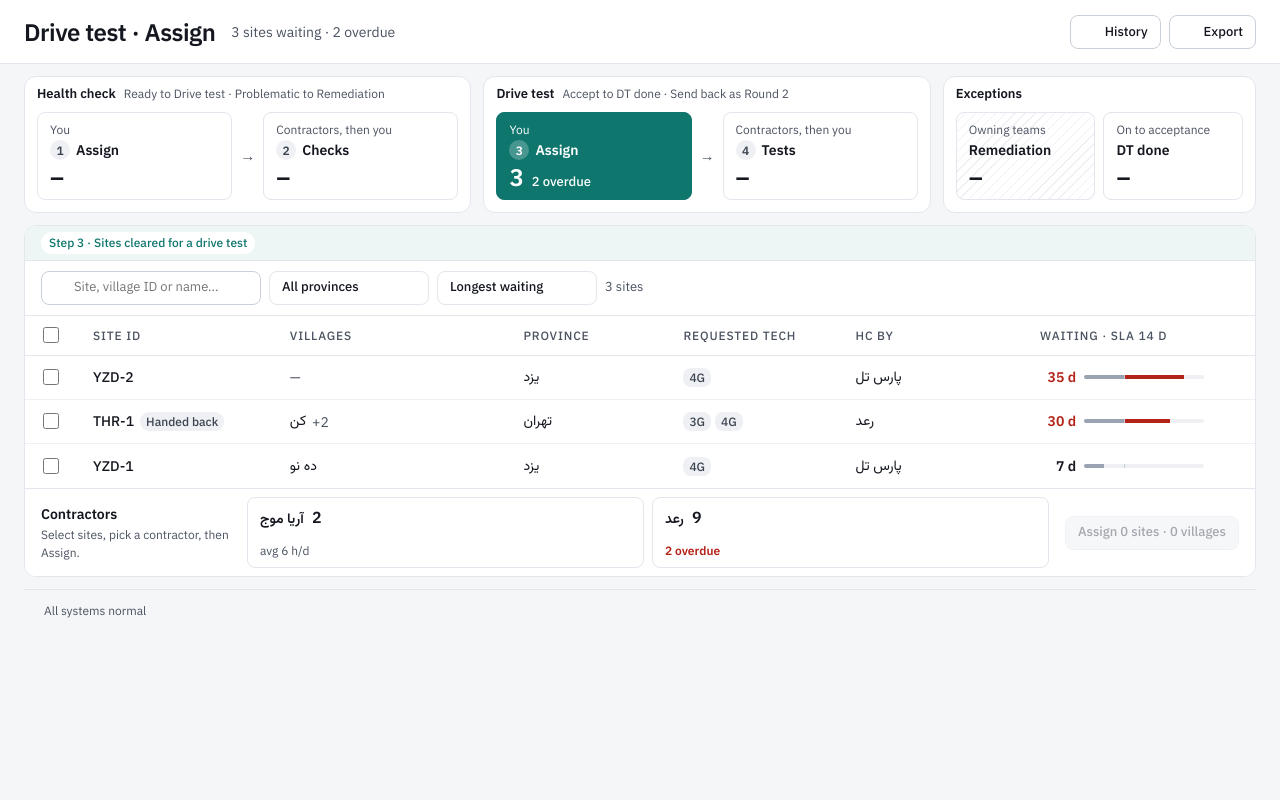
Scenario: assigning › assigns the selected sites in one click, keeps the confirmation, and undoes it
Expected: the button "Assign 0 sites · 0 villages" is disabled, [1065, 516, 1239, 550]
Click the checkbox named "Select YZD-1" at [51, 466], box [43, 458, 59, 474]
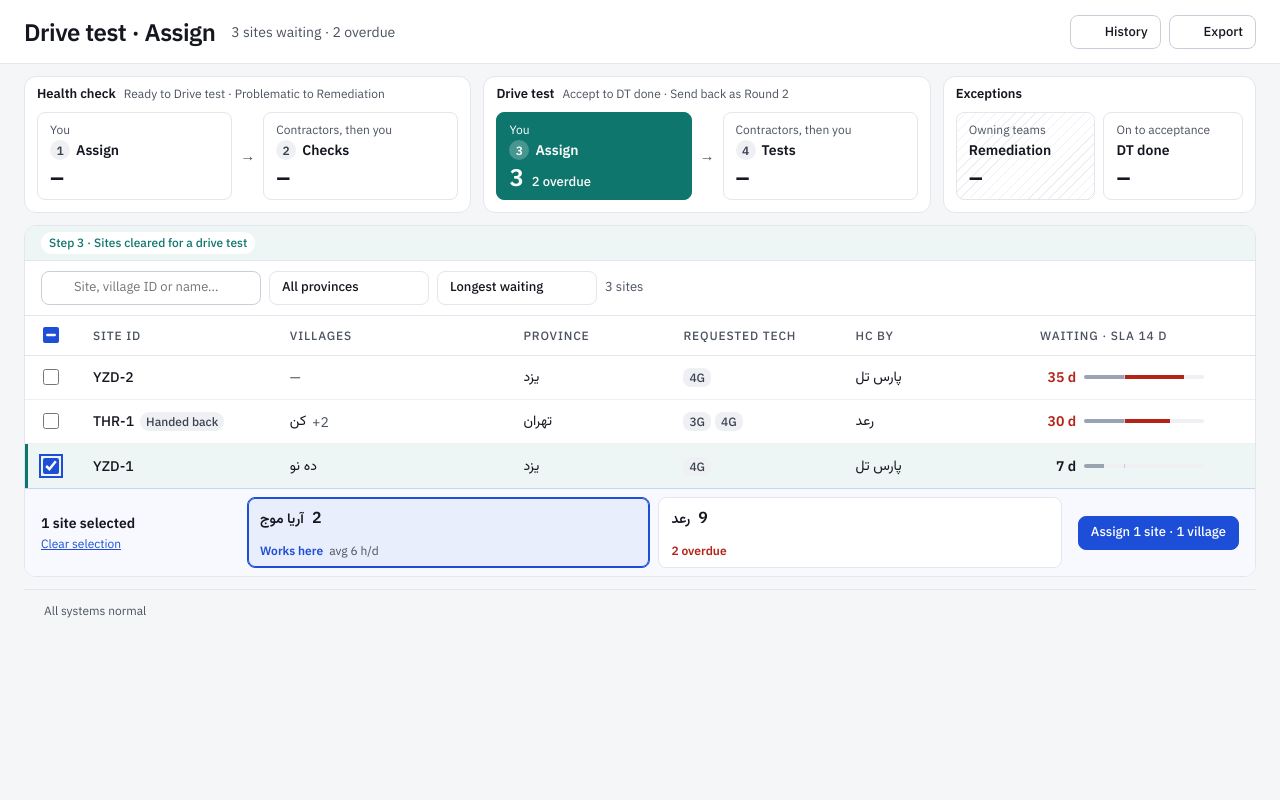
Expected: the radio button labelled "آریا موج 2 Works here avg 6 h/d" is checked
Click the radio button labelled "آریا موج 2 Works here avg 6 h/d" at [282, 520], box [247, 497, 650, 568]
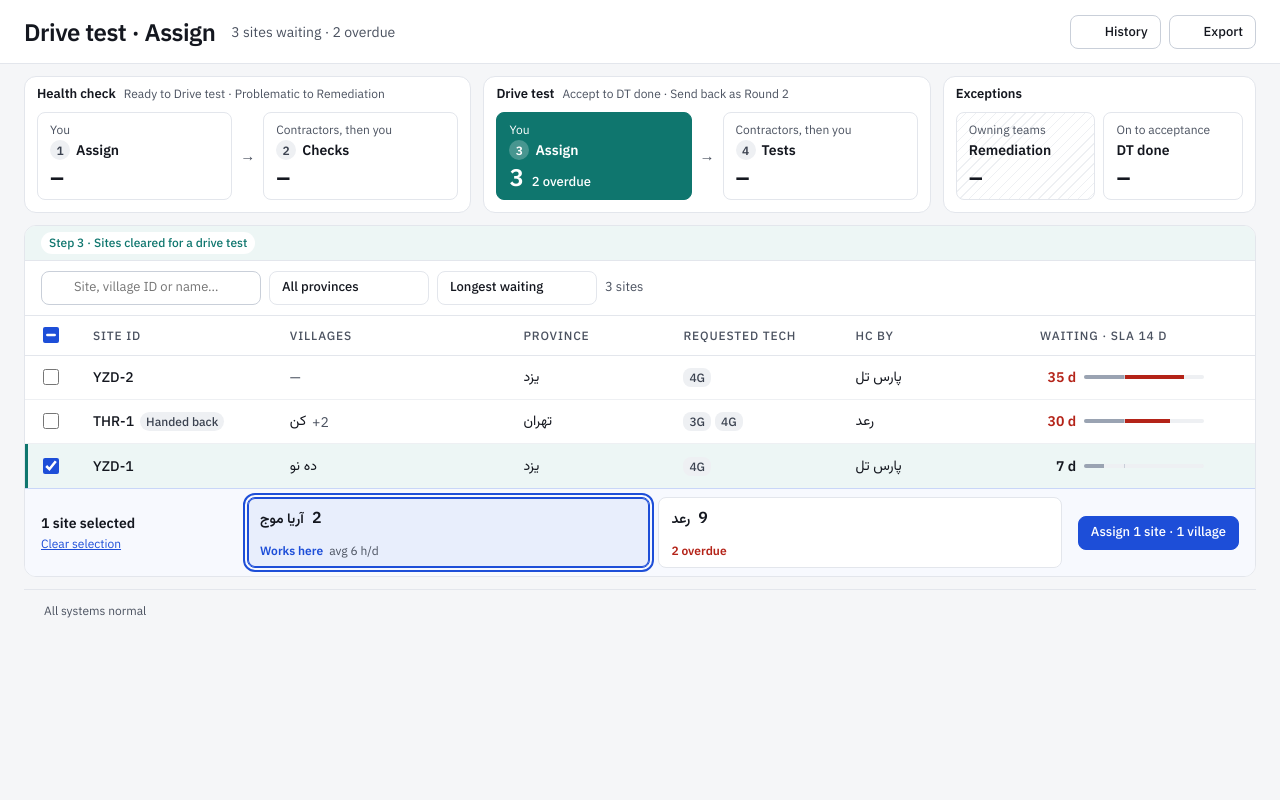
Click the button "Assign 1 site · 1 village" at [1158, 533], box [1078, 516, 1239, 550]
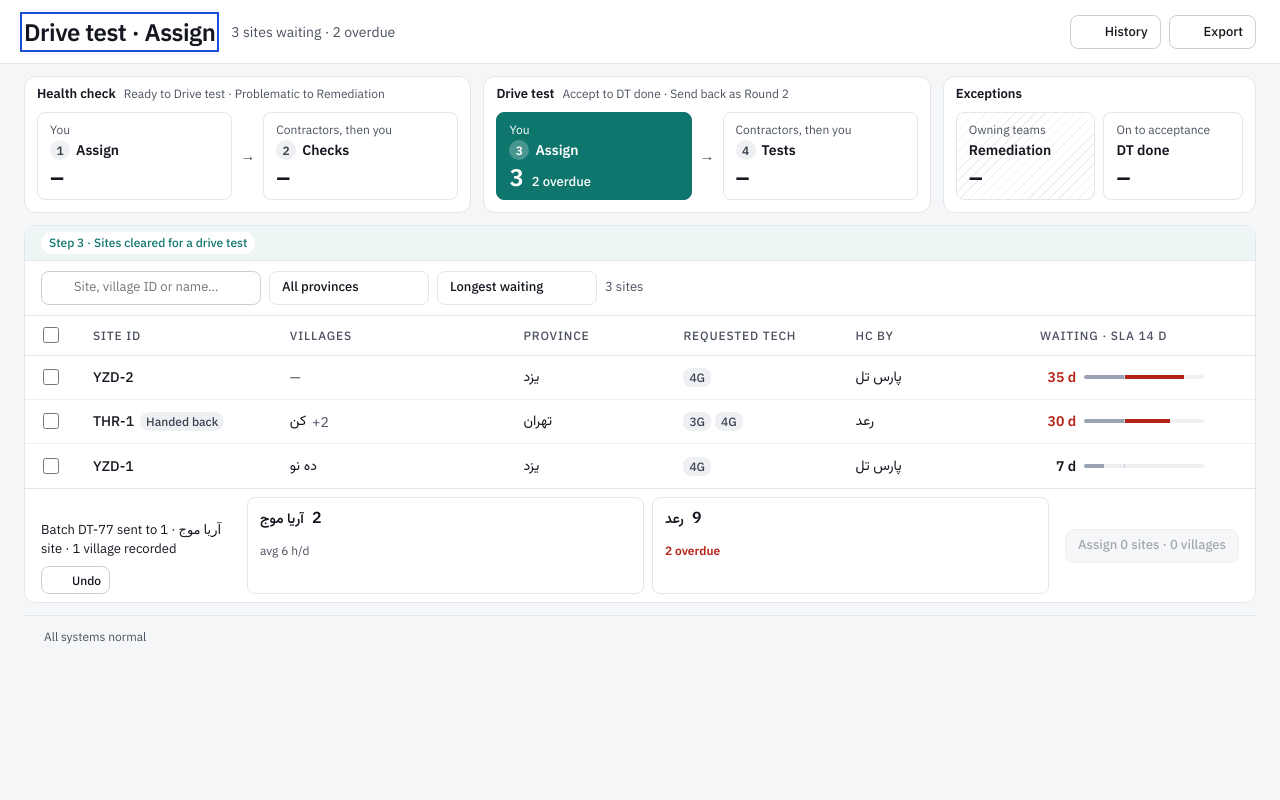
Expected: the text "Batch DT-77 sent to آریا موج · 1 site · 1 village recorded" is shown, [41, 521, 231, 558]
Click the button "Undo" at [76, 580], box [41, 566, 110, 594]
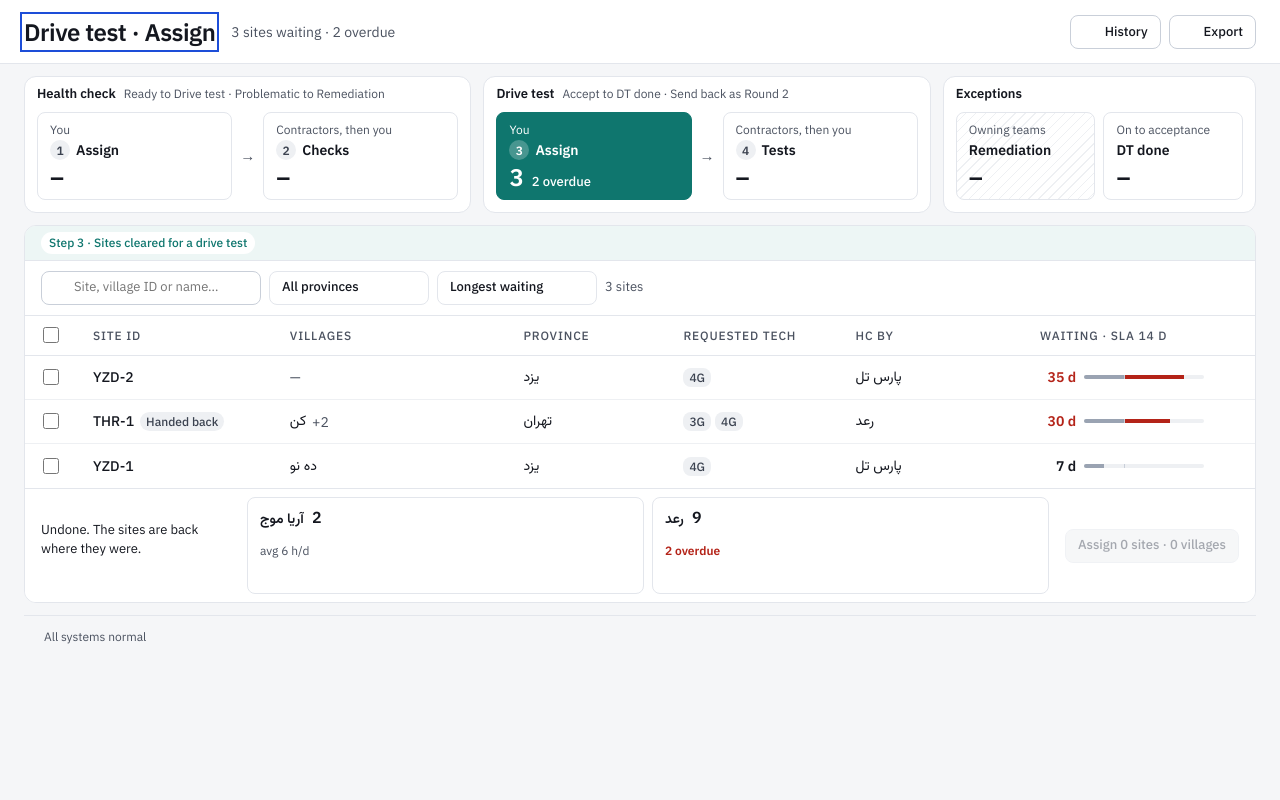
Expected: the text "Undone. The sites are back where they were." is shown, [41, 521, 198, 557]
